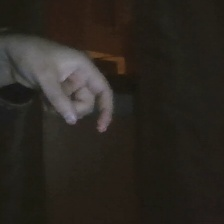Q: (5, 13, 125, 148)
